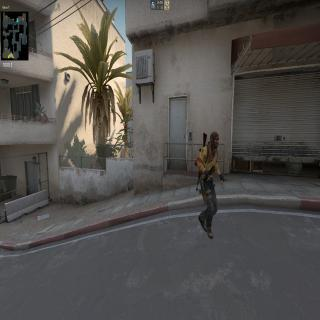T-Head: (210, 129, 219, 150)
